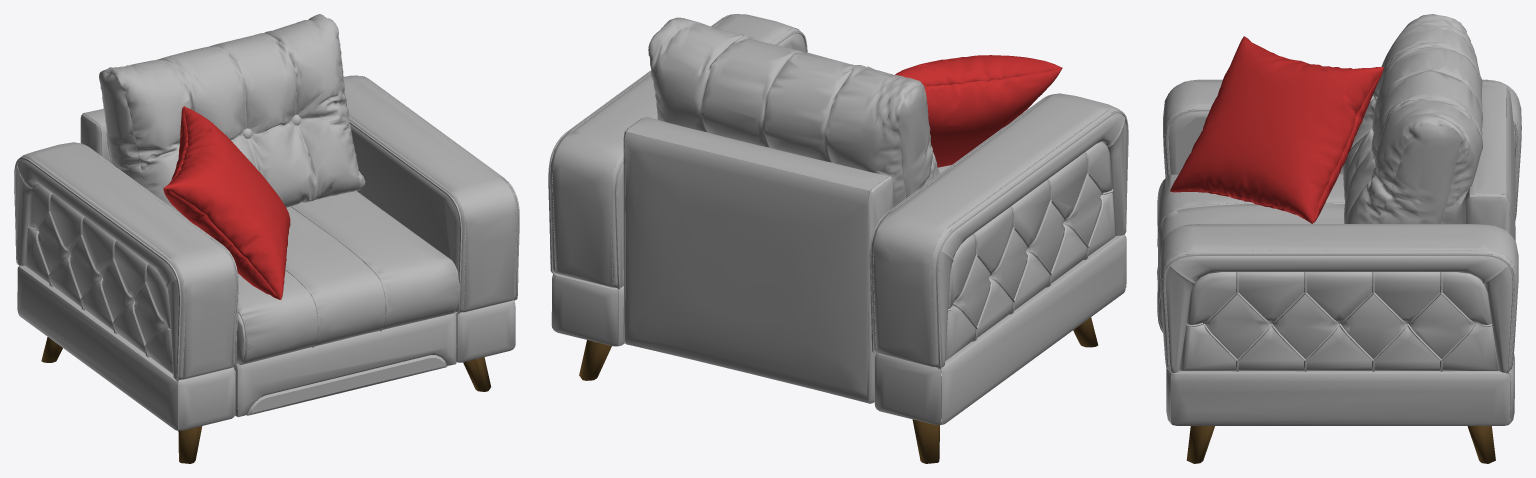
The model's file is armchair.glb.
3 renders of one model, left to right at view 1: azimuth 30°, elevation 25°; view 2: azimuth 150°, elevation 25°; view 3: azimuth 270°, elevation 25°, orthographic. The views are drawn at different scales.
Parts seen in each view (by area): view 1: Armchair_Monti_156__corona; view 2: Armchair_Monti_156__corona; view 3: Armchair_Monti_156__corona.
Part boxes in pixels (<box>): Armchair_Monti_156__corona: <box>14,14,519,463</box>; Armchair_Monti_156__corona: <box>548,14,1128,463</box>; Armchair_Monti_156__corona: <box>1157,14,1521,463</box>.
Bounding box in the file's own units: 112 × 93.16 × 96.64.
